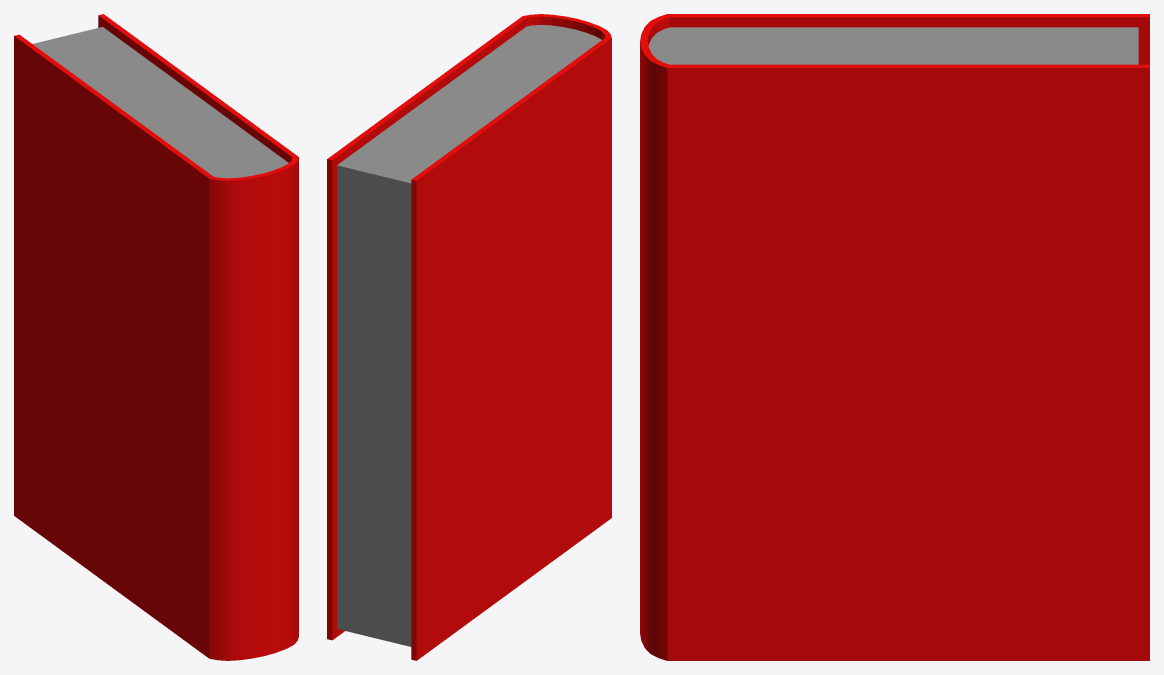
The model's file is Book.fbx.
3 views of the same model, side by side, from view 1: azimuth 30°, elevation 25°; view 2: azimuth 150°, elevation 25°; view 3: azimuth 270°, elevation 25° (orthographic). The views are drawn at different scales.
Parts seen in each view (by area): view 1: Book; view 2: Book; view 3: Book.
Boxes of the visible parts, left/top/right/bottom form: Book: left=14, top=14, right=298, bottom=660; Book: left=327, top=14, right=611, bottom=660; Book: left=640, top=14, right=1149, bottom=660.
Size of the model in its own units: 3.73 by 19.13 by 14.9.
